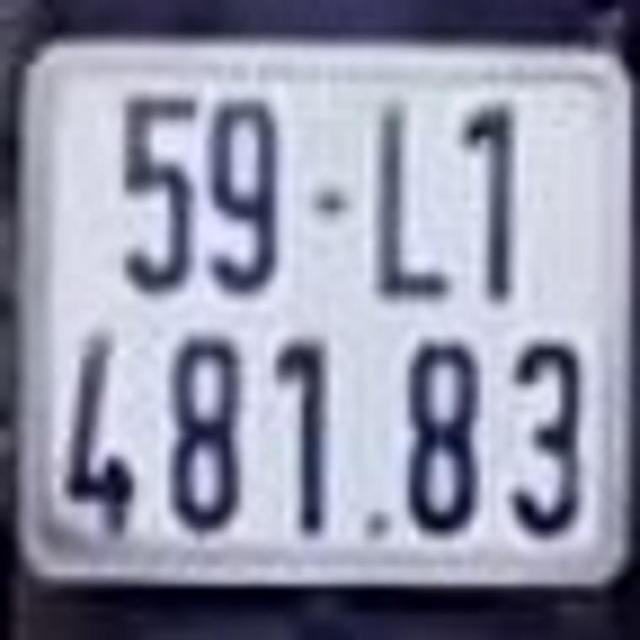1: (276, 343, 335, 539), (474, 109, 525, 306)
3: (516, 343, 586, 539)
4: (66, 332, 139, 540)
5: (125, 98, 198, 290)
8: (412, 342, 482, 532), (172, 338, 238, 529)
9: (210, 100, 280, 292)
L: (373, 112, 458, 298)
